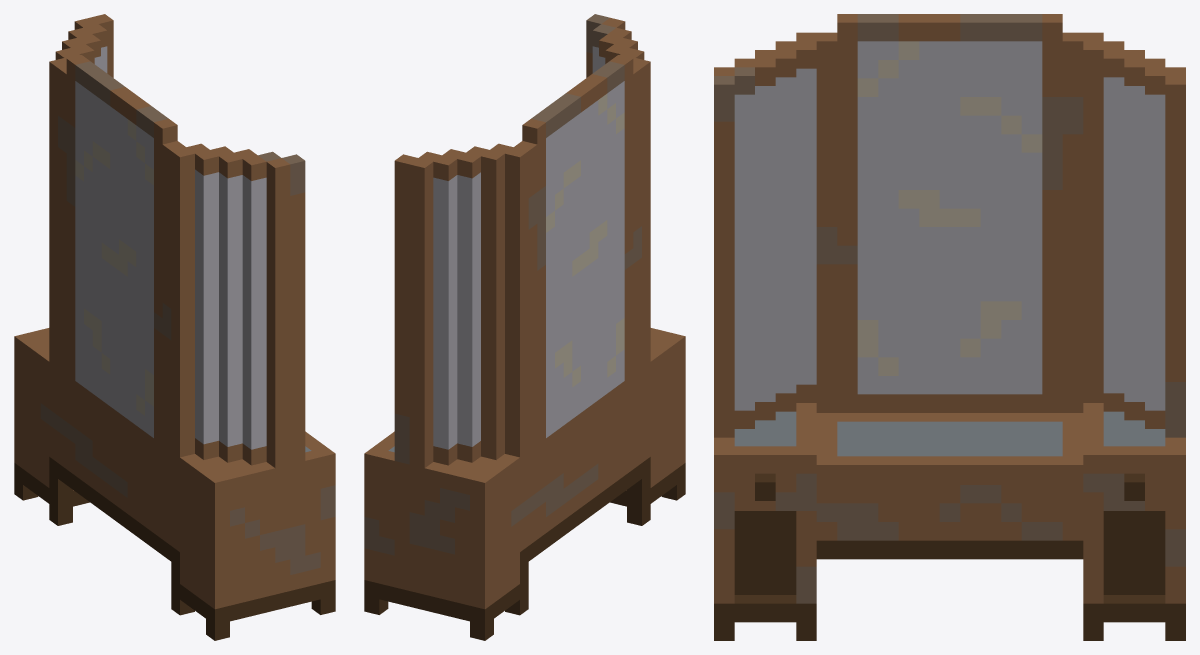
Rendered from Stolik_make_up.obj.
3 renders of one model, left to right at view 1: azimuth 30°, elevation 25°; view 2: azimuth 150°, elevation 25°; view 3: azimuth 270°, elevation 25°, orthographic. The views are drawn at different scales.
Size of the model in its own units: 0.9 by 3 by 2.3.
1 material, 1 textured.
